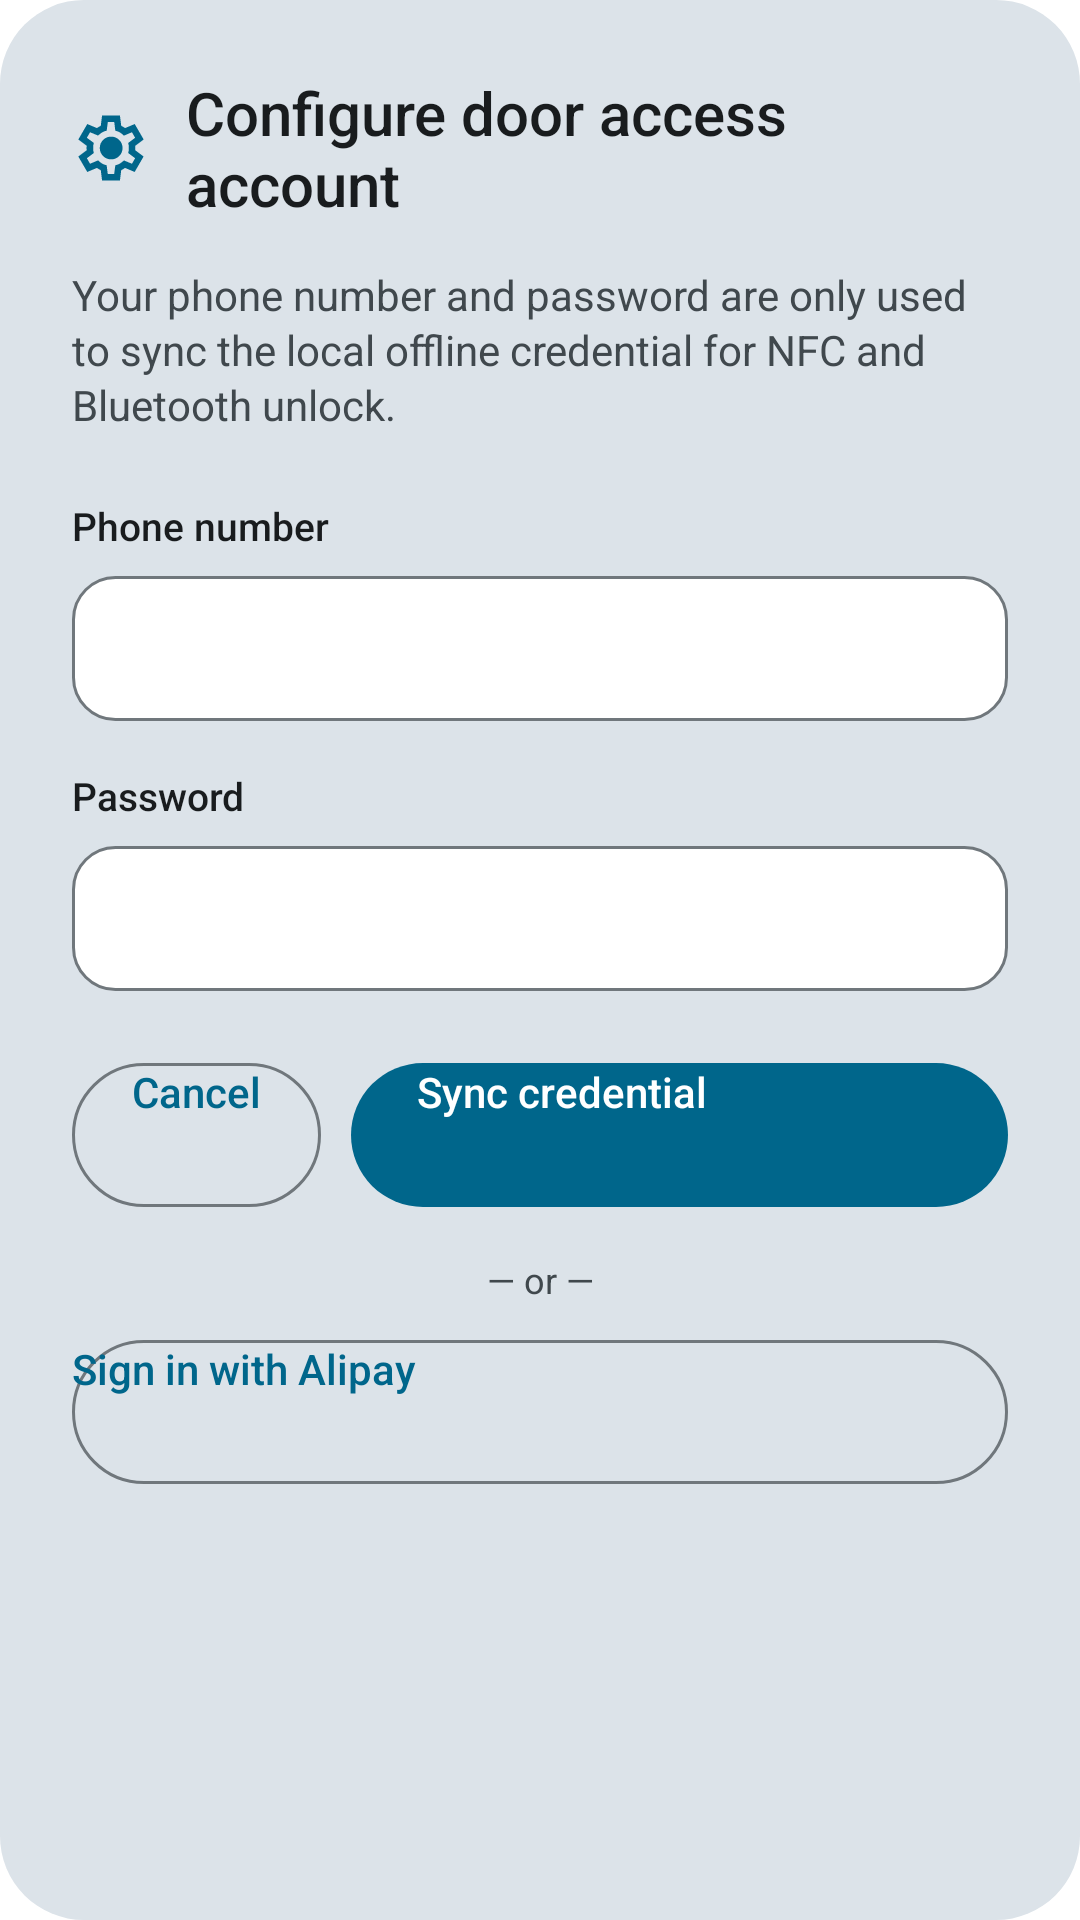

Icons on this 1080w x 1920h Android screen, each with the point to tap as point (x, y):
settings: point (111, 148)
